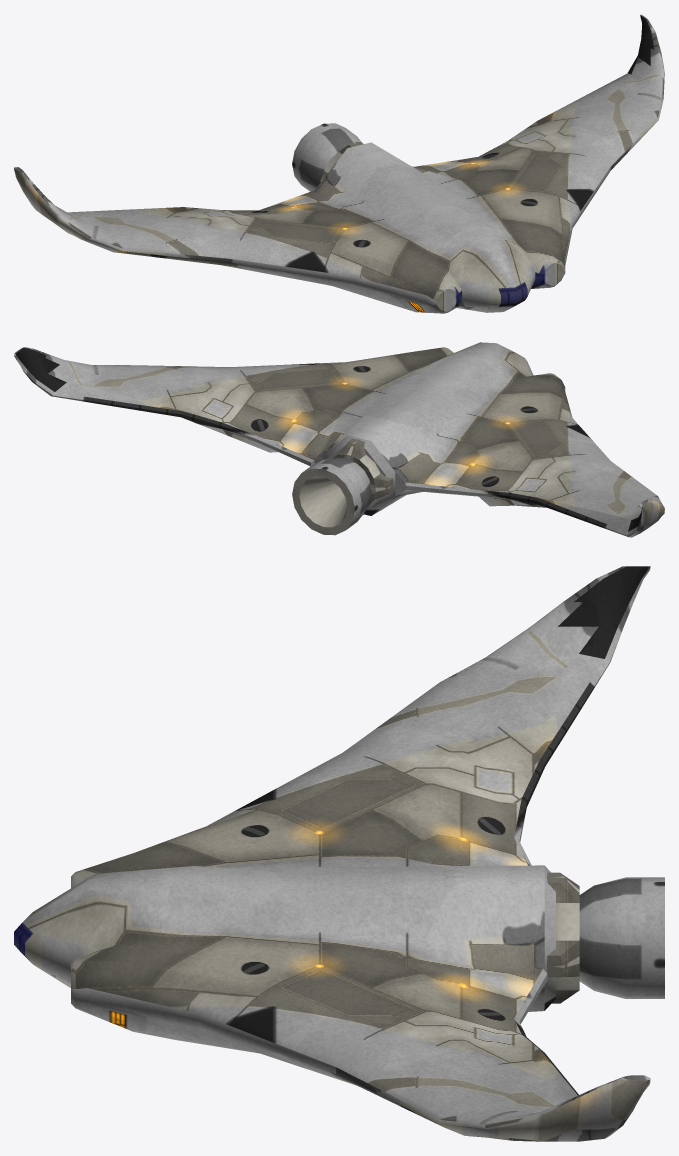
The model's file is Delta I.fbx.
3 renders of one model, top to bottom at view 1: azimuth 30°, elevation 25°; view 2: azimuth 150°, elevation 25°; view 3: azimuth 270°, elevation 25°, orthographic. The views are drawn at different scales.
Visible parts, largest first — view 1: DeltaI_LOD0; view 2: DeltaI_LOD0; view 3: DeltaI_LOD0.
Part boxes in pixels (bbox=[...]): DeltaI_LOD0: bbox=[14, 14, 664, 313]; DeltaI_LOD0: bbox=[14, 342, 664, 537]; DeltaI_LOD0: bbox=[14, 566, 664, 1141].
Size of what is drawn, in the model's own units: 4089 by 708 by 2181.
